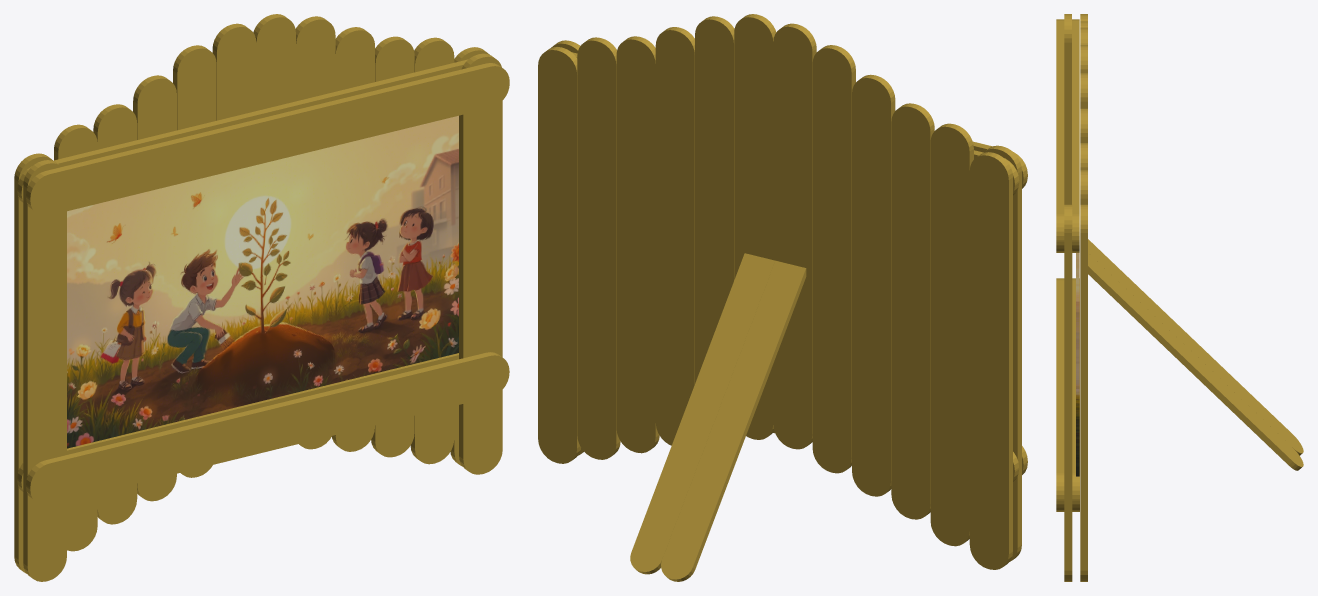
The model's file is Stik Eskrim Bingkai Foto.fbx.
The picture shows the model from 3 angles, left to right: view 1: azimuth 30°, elevation 25°; view 2: azimuth 150°, elevation 25°; view 3: azimuth 270°, elevation 25°; orthographic projection. The views are drawn at different scales.
Parts seen in each view (by area): view 1: Gambar, Cube.014, Cube.017, Cube.013, Cube.012, Cube, Cube.015, Cube.005, Cube.006, Cube.004, Cube.007, Cube.010 (+6 smaller); view 2: Cube, Cube.004, Cube.001, Cube.003, Cube.010, Cube.009, Cube.011, Cube.002, Cube.008, Cube.005, Cube.007, Cube.018 (+3 smaller); view 3: Cube.019, Cube.012, Cube.018, Cube.011, Cube.014, Cube.017, Cube.015, Cube.013, Cube.016, Gambar.
Part boxes in pixels (x1,y1,x2,y2): Gambar: (67, 115, 458, 448); Cube.014: (26, 63, 509, 215); Cube.017: (26, 352, 509, 505); Cube.013: (23, 160, 66, 581); Cube.012: (459, 53, 502, 474); Cube: (14, 153, 52, 573); Cube.015: (17, 59, 468, 203); Cube.005: (212, 23, 256, 120); Cube.006: (253, 14, 295, 110); Cube.004: (173, 45, 216, 477); Cube.007: (295, 16, 335, 449); Cube.010: (410, 37, 454, 464); Cube: (969, 152, 1012, 569); Cube.004: (812, 45, 855, 473); Cube.001: (930, 123, 973, 546); Cube.003: (852, 74, 895, 496); Cube.010: (577, 37, 620, 459); Cube.009: (616, 36, 659, 453); Cube.011: (538, 47, 580, 463); Cube.002: (891, 103, 934, 519); Cube.008: (655, 27, 694, 445); Cube.005: (773, 23, 816, 449); Cube.007: (695, 16, 734, 383); Cube.018: (661, 260, 806, 581); Cube.019: (1088, 253, 1303, 470); Cube.012: (1064, 204, 1072, 581); Cube.018: (1088, 239, 1303, 455); Cube.011: (1080, 204, 1087, 581); Cube.014: (1056, 19, 1064, 252); Cube.017: (1056, 278, 1064, 511); Cube.015: (1072, 19, 1079, 252); Cube.013: (1064, 14, 1071, 204); Cube.016: (1072, 278, 1079, 511); Gambar: (1076, 253, 1079, 476).
Size of the model in its own units: 821 by 816 by 409.
